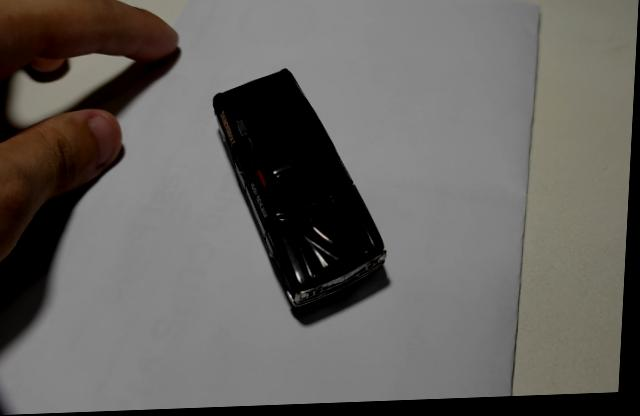01_FORD: (213, 71, 394, 327)
